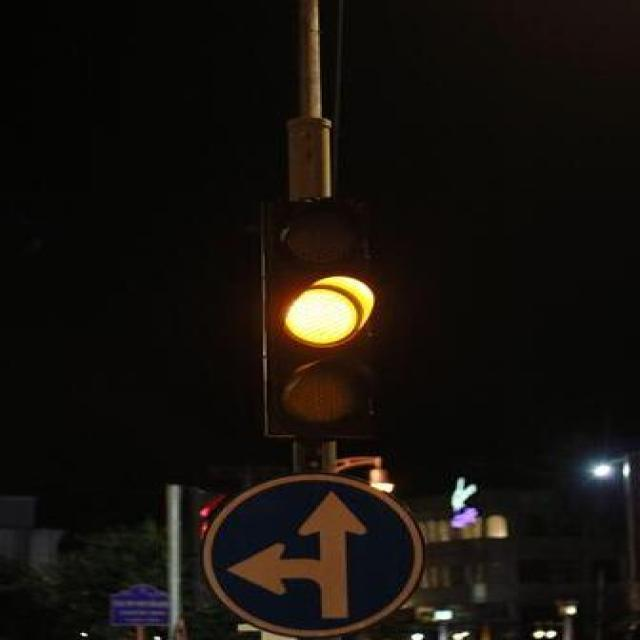yellow_light: (262, 198, 378, 439)
